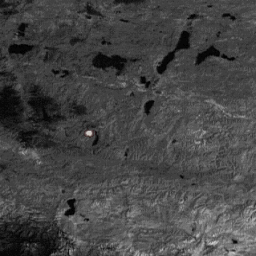Target: (83, 129, 92, 138)
